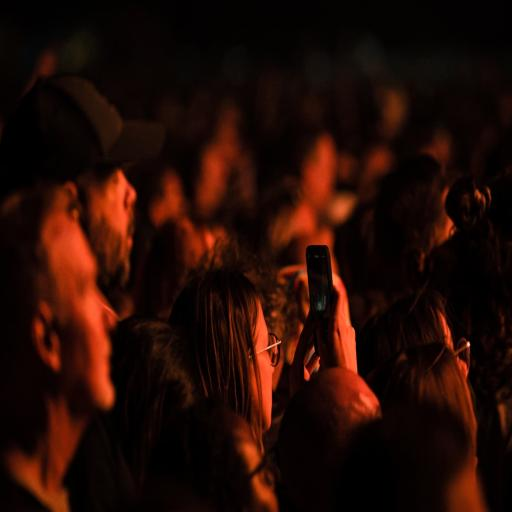face: (42, 212, 116, 414), (84, 168, 136, 289), (252, 301, 274, 431)
